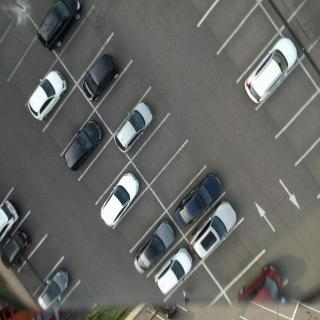car: (243, 37, 298, 104), (189, 201, 238, 261), (174, 171, 224, 228), (133, 219, 178, 277), (59, 119, 104, 173), (36, 1, 81, 52), (100, 172, 140, 229), (113, 100, 153, 155), (232, 262, 287, 302), (27, 71, 68, 123), (151, 248, 192, 296), (81, 51, 118, 103), (1, 197, 20, 262), (2, 230, 30, 270), (42, 269, 70, 301), (1, 305, 20, 320)
parking-space: (215, 7, 285, 90), (130, 110, 196, 194), (90, 57, 153, 137), (256, 62, 318, 142), (205, 213, 271, 284), (150, 136, 209, 215), (55, 8, 114, 84), (41, 83, 97, 151), (113, 188, 171, 253), (76, 142, 134, 205), (272, 92, 320, 168), (196, 1, 263, 55), (1, 5, 43, 84), (5, 47, 60, 104), (17, 232, 65, 296), (276, 1, 320, 69), (188, 260, 230, 315), (57, 276, 103, 320), (237, 302, 281, 319), (279, 301, 320, 319)
